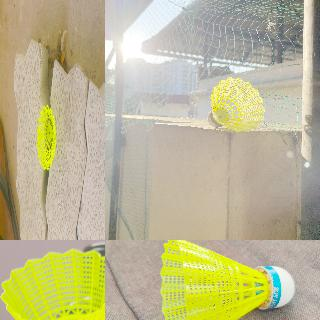shuttlecock: (161, 240, 295, 319), (0, 249, 104, 319), (208, 77, 264, 131), (36, 106, 56, 170)
